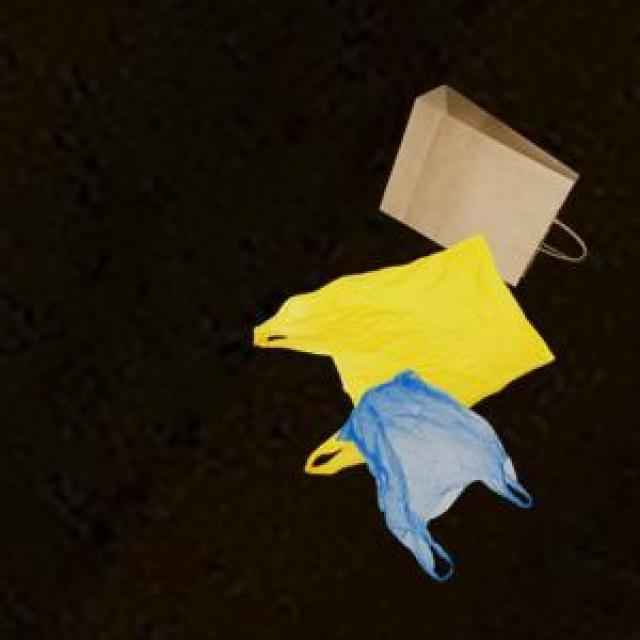paper: (376, 81, 574, 282)
